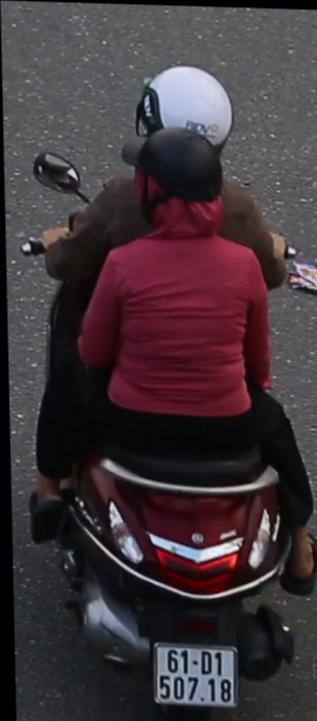LP: (145, 631, 239, 710)
helmet: (128, 121, 228, 244), (134, 56, 234, 144)
